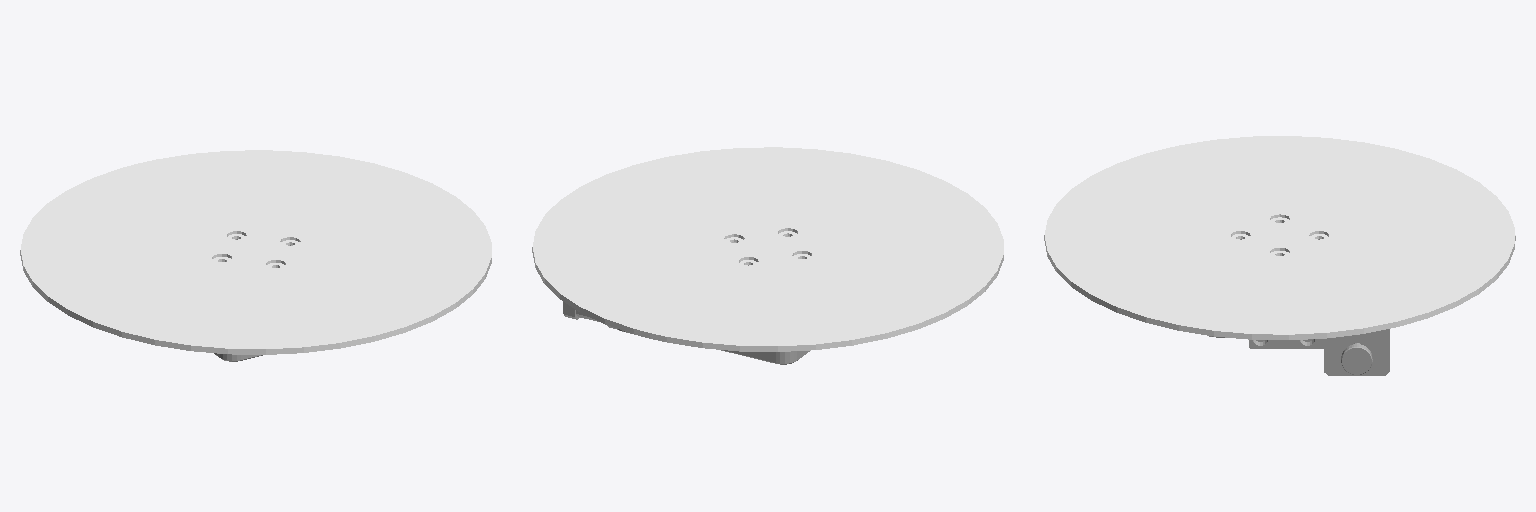
URDF robot description (turntable):
<?xml version="1.0" ?>
<!-- =================================================================================== -->
<!-- |    This document was autogenerated by xacro from /root/work_place/composite_ws/src/turntable/turntable_description/urdf/turntable_standalone.xacro | -->
<!-- |    EDITING THIS FILE BY HAND IS NOT RECOMMENDED                                 | -->
<!-- =================================================================================== -->
<robot name="turntable">
  <link name="map"/>
  <gazebo>
    <plugin filename="libgazebo_ros_control.so" name="gazebo_ros_control">
      <robotNamespace>/</robotNamespace>
      <legacyModeNS>true</legacyModeNS>
    </plugin>
  </gazebo>
  <transmission name="turntable_trans">
    <type>transmission_interface/SimpleTransmission</type>
    <joint name="turntable_support_joint">
      <hardwareInterface>hardware_interface/PositionJointInterface</hardwareInterface>
    </joint>
    <actuator name="turntable_motor">
      <mechanicalReduction>1</mechanicalReduction>
      <hardwareInterface>hardware_interface/PositionJointInterface</hardwareInterface>
    </actuator>
  </transmission>
  <joint name="turntable_base_joint" type="fixed">
    <parent link="map"/>
    <child link="turntable_base_link"/>
    <origin rpy="0 0 0" xyz="0 0 0"/>
  </joint>
  <link name="turntable_base_link">
    <inertial>
      <origin rpy="0 0 0" xyz="0.025941 0.017099 0.020883"/>
      <mass value="0.47747"/>
      <inertia ixx="0.00034258" ixy="7.1646E-06" ixz="2.4443E-06" iyy="0.00032297" iyz="5.1465E-06" izz="0.00058903"/>
    </inertial>
    <visual>
      <origin rpy="0 0 0" xyz="0 0 0"/>
      <geometry>
        <mesh filename="package://turntable_description/meshes/turntable_base_link.STL"/>
      </geometry>
      <material name="">
        <color rgba="0.75294 0.75294 0.75294 1"/>
      </material>
    </visual>
    <collision>
      <origin rpy="0 0 0" xyz="0 0 0"/>
      <geometry>
        <mesh filename="package://turntable_description/meshes/turntable_base_link.STL"/>
      </geometry>
    </collision>
  </link>
  <link name="turntable_support_link">
    <inertial>
      <origin rpy="0 0 0" xyz="0 -2.0817E-17 -0.002003"/>
      <mass value="0.28146"/>
      <inertia ixx="0.0015904" ixy="1.3056E-22" ixz="5.1773E-24" iyy="0.0015904" iyz="5.1068E-23" izz="0.00318"/>
    </inertial>
    <visual>
      <origin rpy="0 0 0" xyz="0 0 0"/>
      <geometry>
        <mesh filename="package://turntable_description/meshes/turntable_support_link.STL"/>
      </geometry>
      <material name="">
        <color rgba="1 1 1 1"/>
      </material>
    </visual>
    <collision>
      <origin rpy="0 0 0" xyz="0 0 0"/>
      <geometry>
        <mesh filename="package://turntable_description/meshes/turntable_support_link.STL"/>
      </geometry>
    </collision>
  </link>
  <joint name="turntable_support_joint" type="revolute">
    <origin rpy="0 0 0" xyz="0 0 0.049"/>
    <parent link="turntable_base_link"/>
    <child link="turntable_support_link"/>
    <axis xyz="0 0 1"/>
    <limit effort="10" lower="-3.1415926" upper="3.1415926" velocity="10"/>
  </joint>
</robot>

--- Facts derived from the render (not from the file) ---
The picture shows the robot from 3 angles, left to right: view 1: azimuth 30°, elevation 25°; view 2: azimuth 150°, elevation 25°; view 3: azimuth 270°, elevation 25°; orthographic projection.
Robot: turntable — 3 links, 2 joints (1 revolute, 1 fixed); root link map; default pose: every joint at zero.
Links seen in each view (by area): view 1: turntable_support_link; view 2: turntable_support_link, turntable_base_link; view 3: turntable_support_link, turntable_base_link.
Link boxes in pixels (box(x1,y1,x2,y2)): turntable_support_link: box(20, 150, 491, 354); turntable_support_link: box(532, 147, 1003, 351); turntable_base_link: box(543, 236, 809, 364); turntable_support_link: box(1044, 136, 1515, 339); turntable_base_link: box(1209, 222, 1389, 375).
Size in the robot's own frame: 0.2998 by 0.3 by 0.049 metres.
2 mesh visuals loaded from 2 distinct referenced files (2 binary STL).